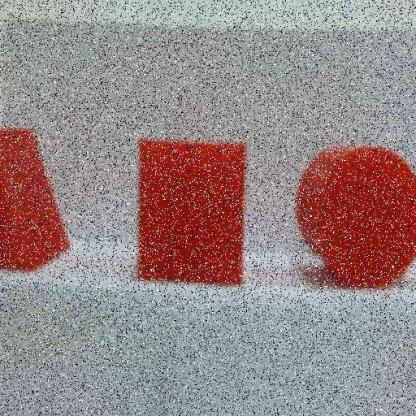circle: (294, 146, 415, 288)
rectangle: (137, 134, 249, 288)
triangle: (1, 123, 73, 278)
